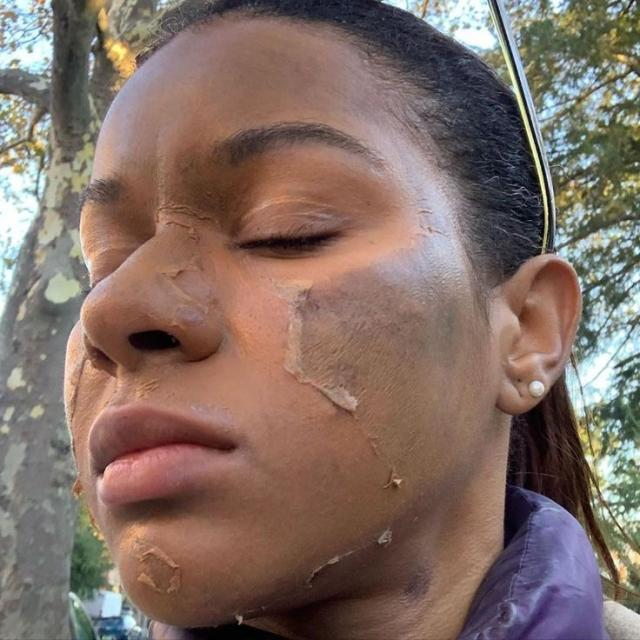Dry-Skin: (297, 296, 435, 417), (360, 454, 447, 586), (144, 196, 200, 282), (141, 553, 200, 623), (304, 534, 355, 607), (407, 224, 454, 296), (54, 334, 83, 421)
